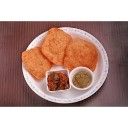poori: (42, 27, 75, 66), (66, 38, 98, 71), (23, 47, 53, 77)
